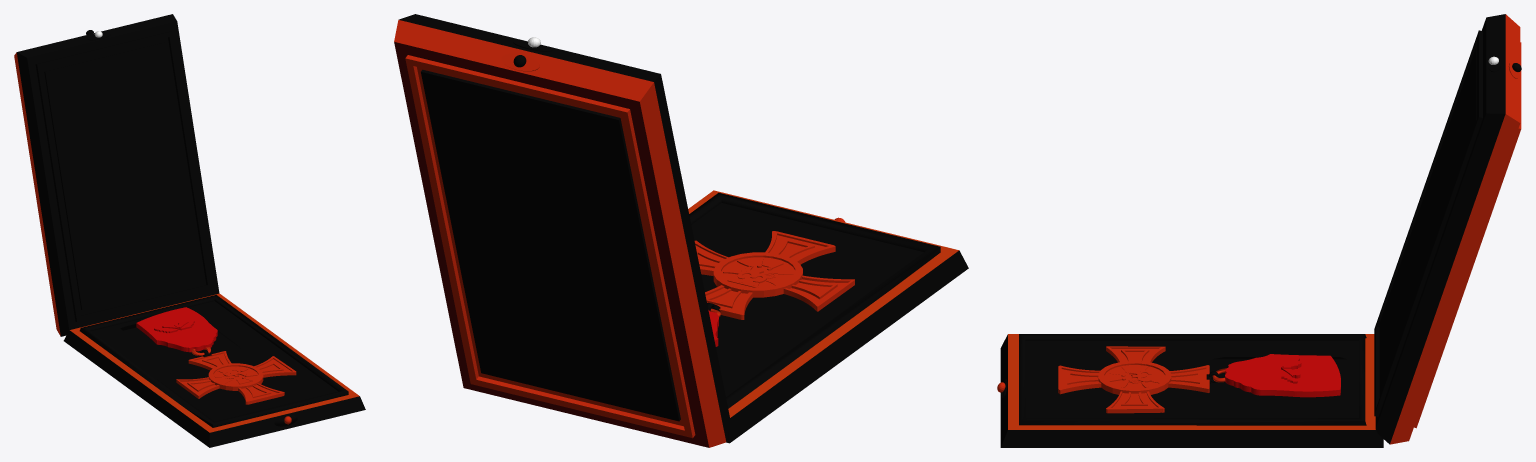
The model's file is Medal.obj.
The picture shows the model from 3 angles, left to right: view 1: azimuth 30°, elevation 25°; view 2: azimuth 150°, elevation 25°; view 3: azimuth 270°, elevation 25°; orthographic projection. The views are drawn at different scales.
Visible parts, largest first — view 1: 3d-model; view 2: 3d-model; view 3: 3d-model.
Boxes of the visible parts, x1,y1,x2,y2 form: 3d-model: (14,14,365,447); 3d-model: (394,14,968,447); 3d-model: (997,14,1521,447).
Size of the model in its own units: 0.1997 by 0.3166 by 0.4424.
